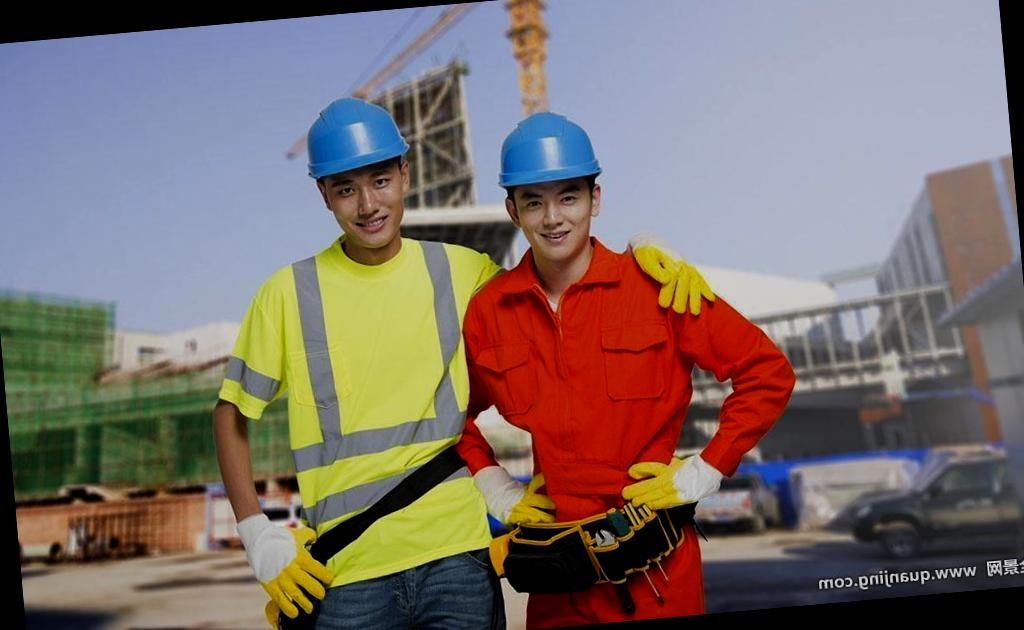helmet: (278, 83, 430, 199), (470, 104, 625, 209)
no_vest: (458, 221, 728, 559)
person: (187, 57, 531, 630), (452, 85, 750, 614)
